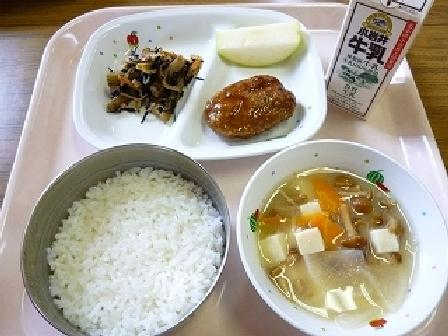Apple: (209, 20, 307, 65)
Meat: (198, 70, 305, 140)
Milk: (313, 0, 437, 121)
Rice: (22, 141, 231, 335)
Soups: (237, 146, 443, 330)
salad with sauce: (95, 30, 202, 124)
